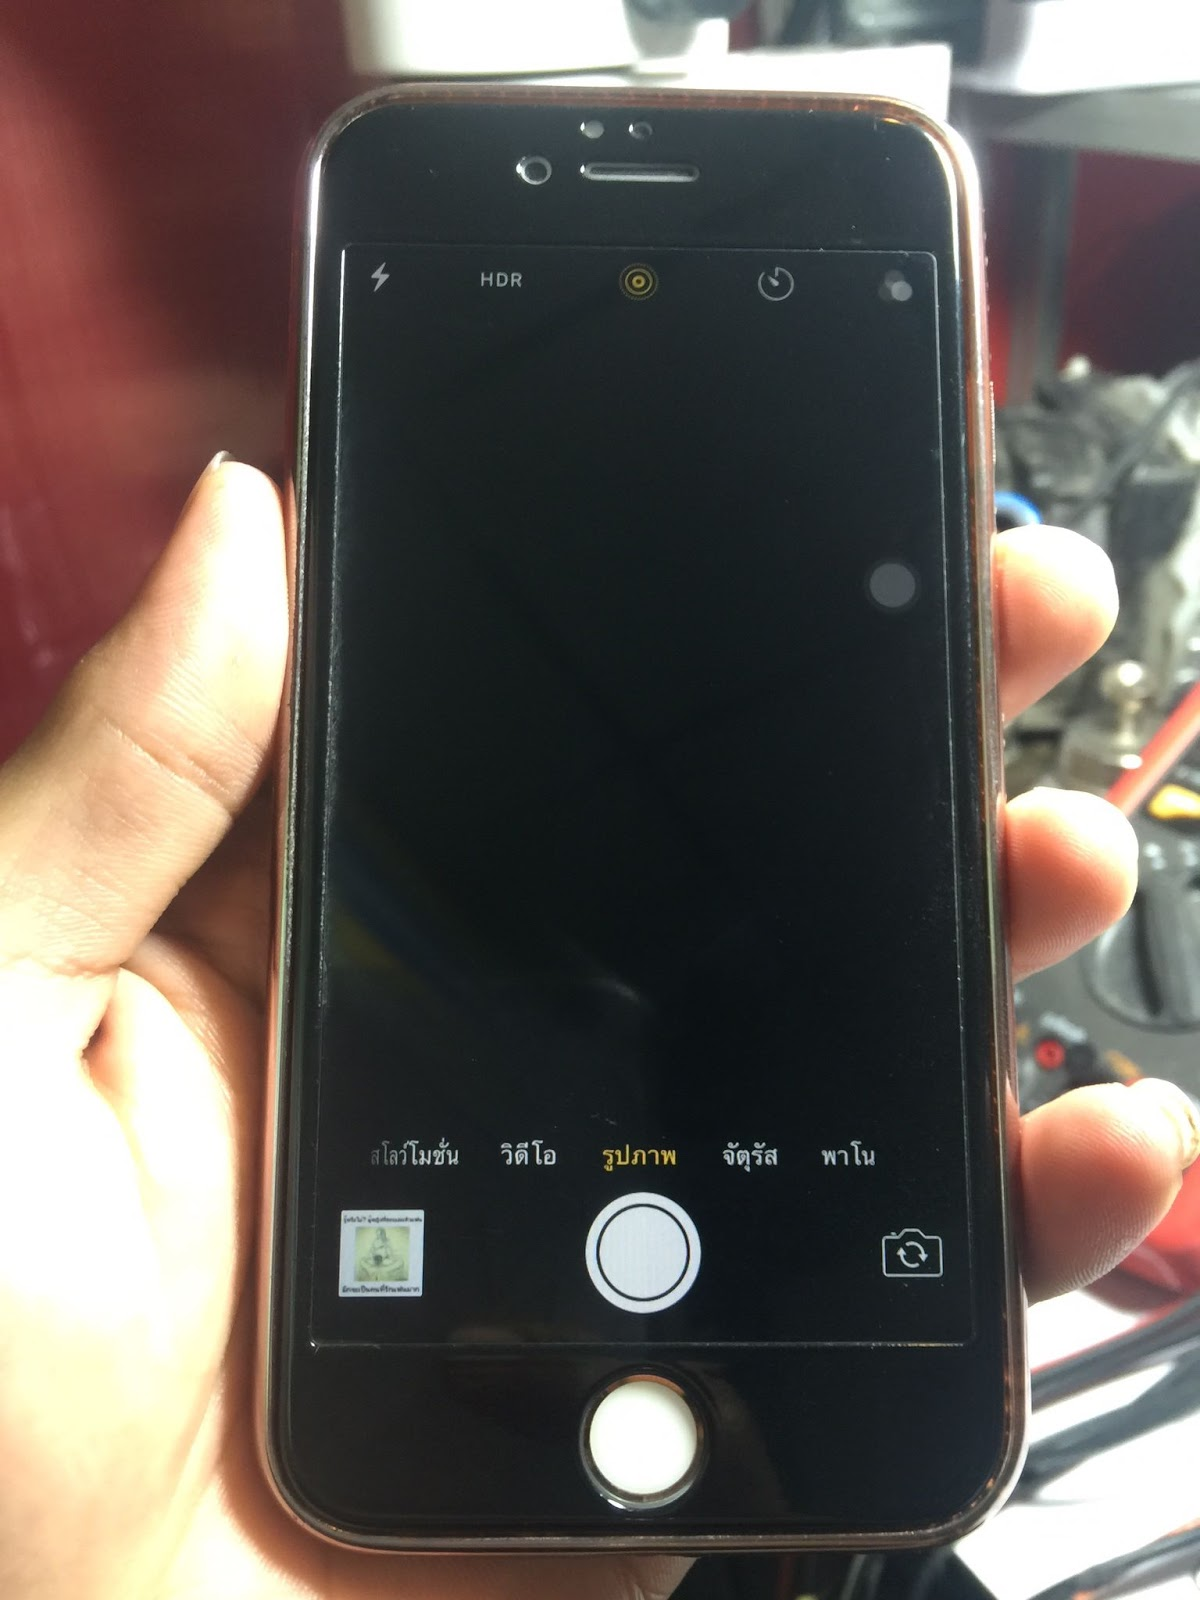Phone: (242, 66, 1030, 1558)
